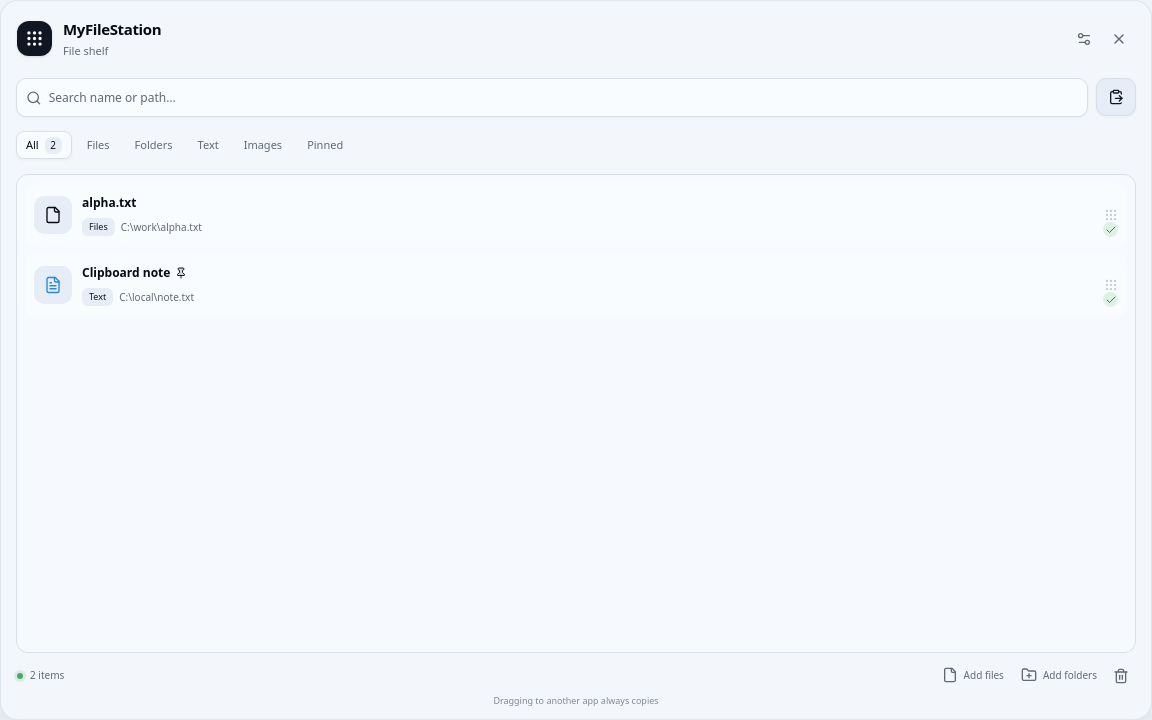
Test: shelf interactions › uses text clipboard copying for the Copy path context action
Right-click the option "alpha.txt Files C:\\work\\alpha.txt" at (53, 215), box x1=25 y1=183 x2=1127 y2=247
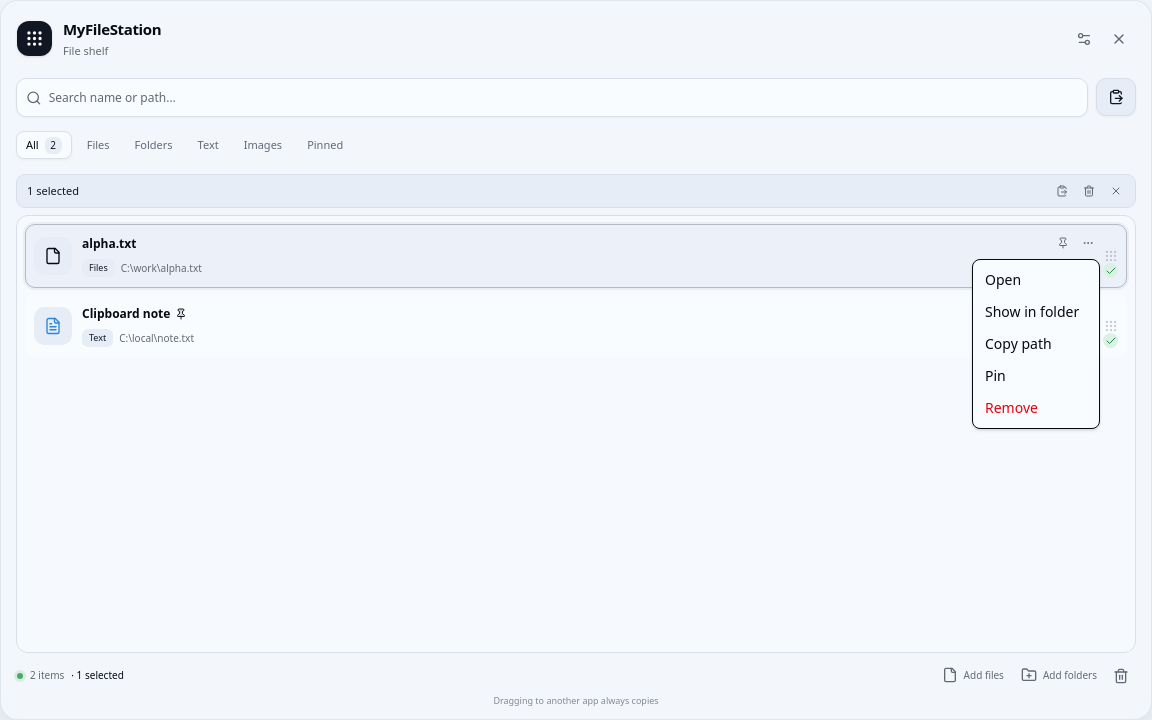
Click the menu item "Copy path" at (1018, 344), box x1=985 y1=334 x2=1052 y2=353
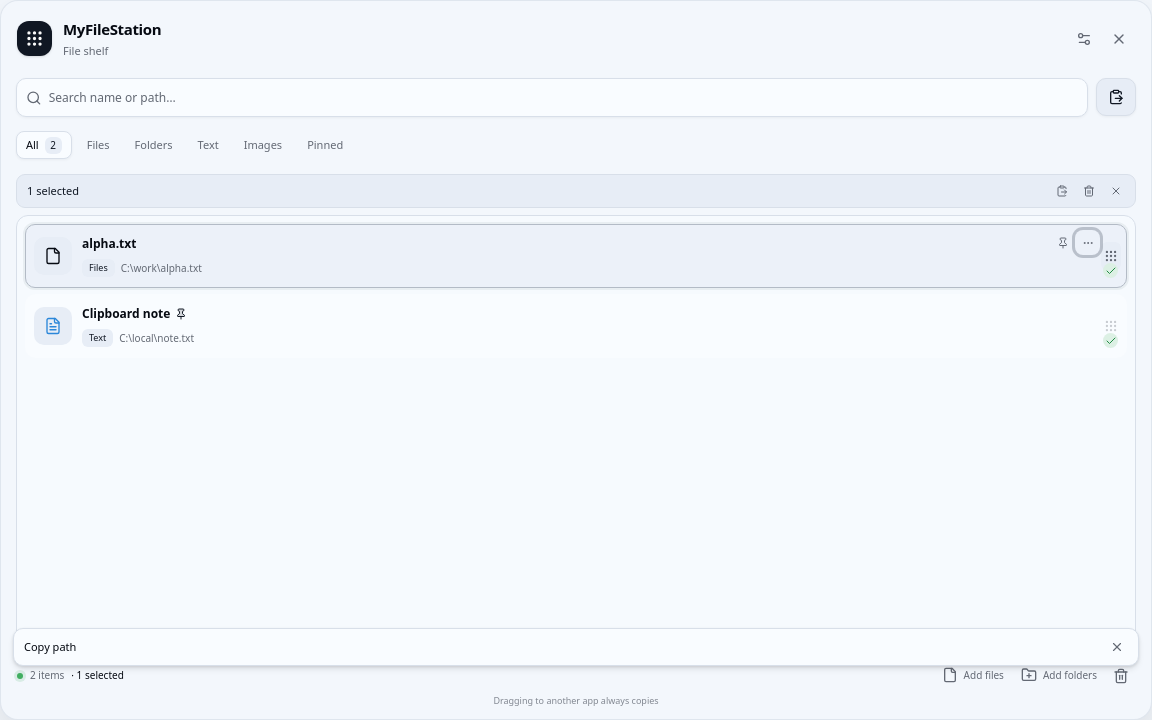
Result: the menu is gone
